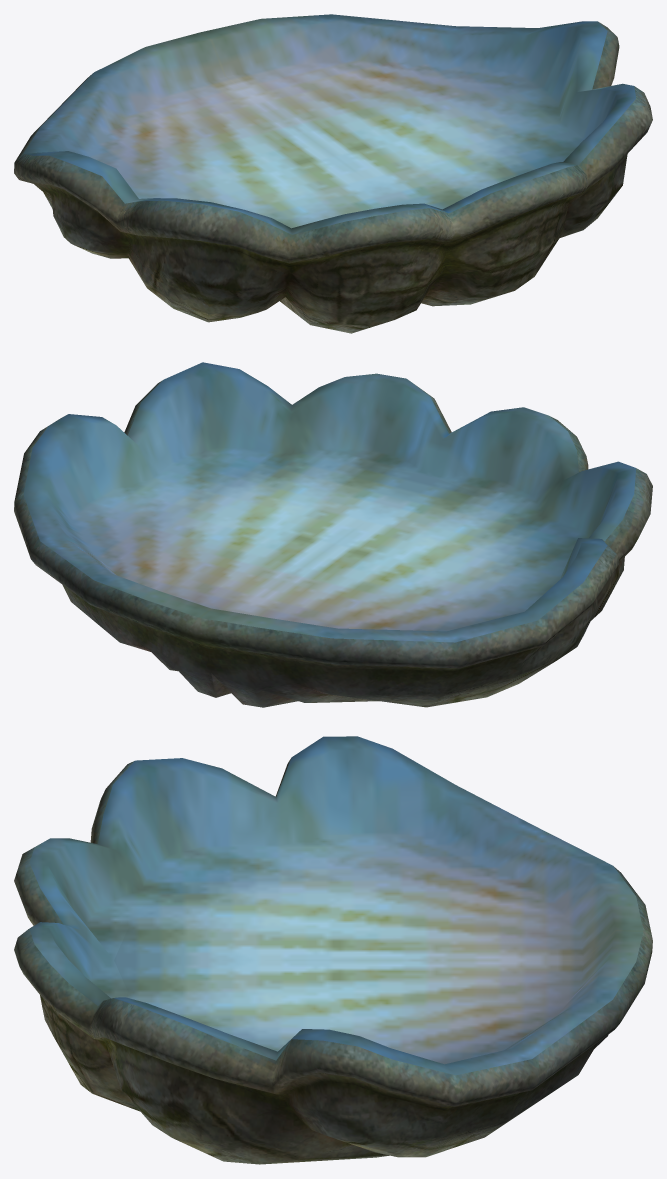
File: environment_common_seabeike_001_a.FBX
3 renders of one model, top to bottom at view 1: azimuth 30°, elevation 25°; view 2: azimuth 150°, elevation 25°; view 3: azimuth 270°, elevation 25°, orthographic. The views are drawn at different scales.
Visible parts, largest first — view 1: environment_common_seabeike_001_a; view 2: environment_common_seabeike_001_a; view 3: environment_common_seabeike_001_a.
Part boxes in pixels (x1,y1,x2,y2): environment_common_seabeike_001_a: (14,14,652,333); environment_common_seabeike_001_a: (14,362,652,707); environment_common_seabeike_001_a: (14,736,652,1164).
Bounding box in the file's own units: 849 × 284 × 712.
